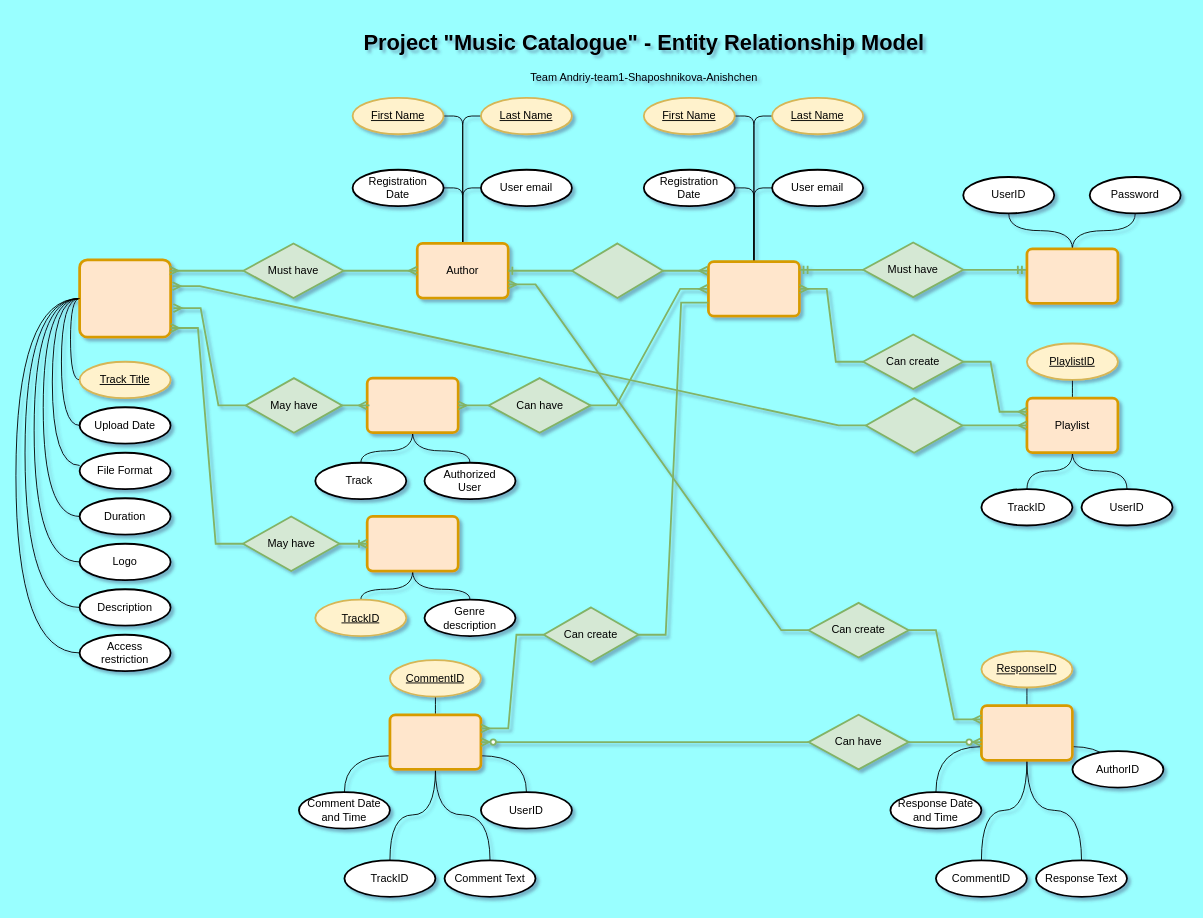
This 1203x918 diagram has some shape labels left out. The shapes that lost their labels are listed below. From the top down, each one's box as (x1, y1, x2, y2) in pixels, then its label:
(571, 242, 663, 298): Acts as
(707, 260, 800, 317): User
(1025, 247, 1119, 304): Login Details
(78, 258, 172, 338): Soundtrack
(365, 376, 459, 434): Limited access rights
(864, 397, 963, 453): May be included
(365, 515, 459, 572): Genre
(388, 713, 482, 770): Comment
(980, 704, 1073, 761): Response
